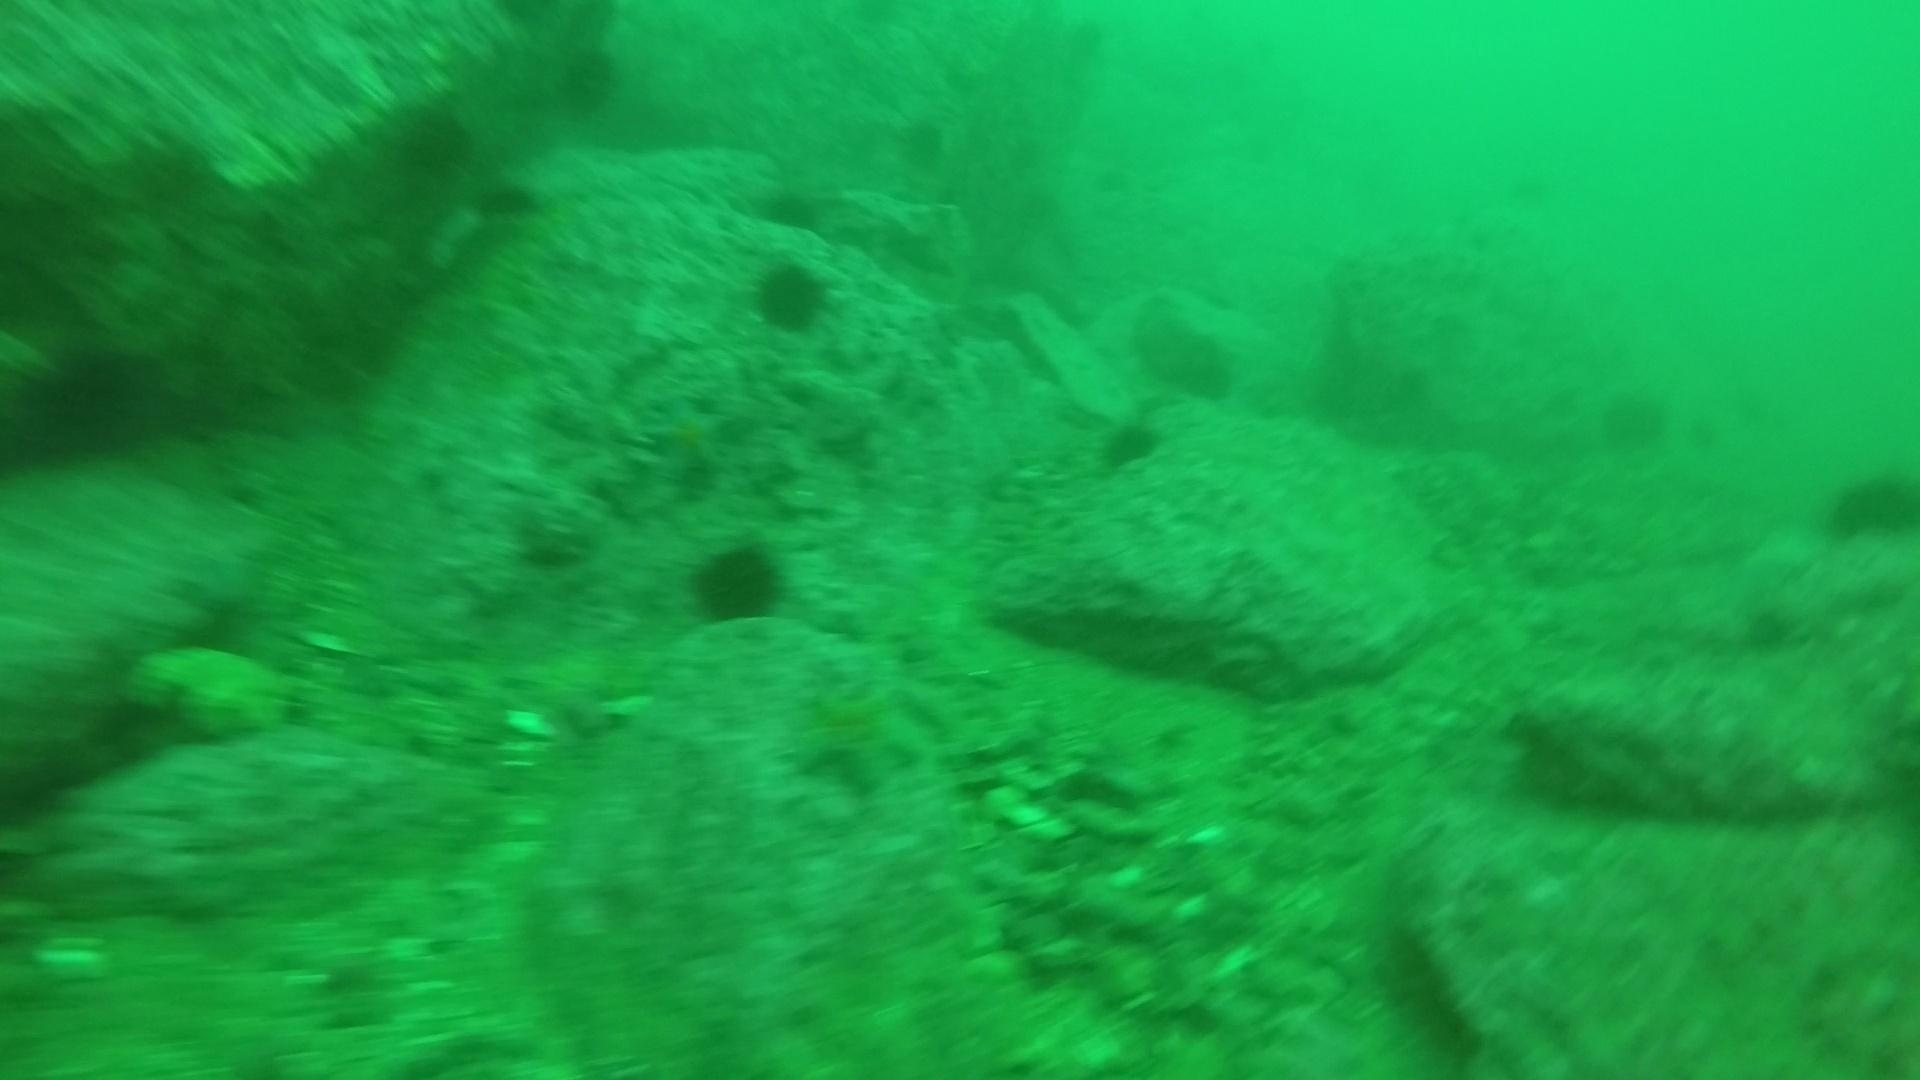echinus: (3, 332, 162, 479), (683, 534, 793, 630), (1820, 458, 1917, 549), (884, 98, 975, 185), (393, 108, 485, 194), (535, 42, 628, 128), (750, 158, 843, 244), (746, 248, 837, 334), (1156, 327, 1247, 413), (1039, 1, 1131, 86), (1596, 378, 1673, 454), (1092, 409, 1168, 477), (1002, 181, 1076, 241), (1502, 156, 1576, 216), (1379, 352, 1455, 411), (1418, 303, 1491, 363)
starfish: (775, 667, 938, 799), (638, 388, 736, 479)
